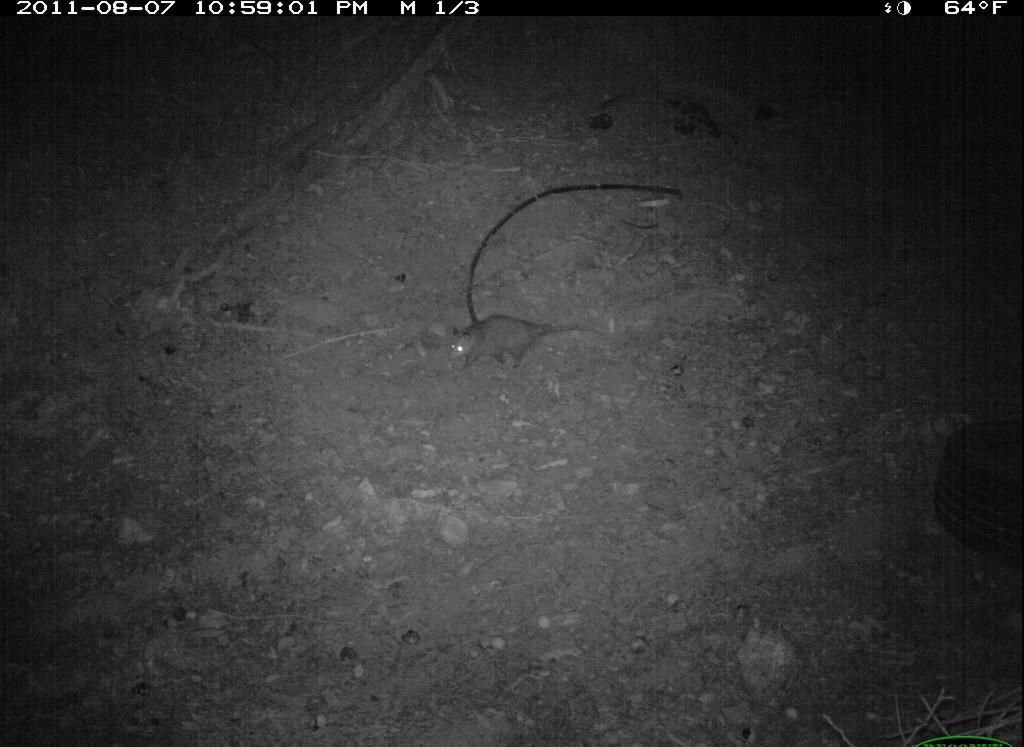opossum: (443, 304, 611, 390)
